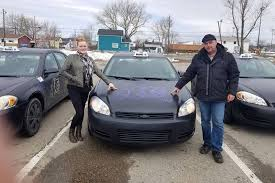Good: (59, 32, 242, 110)
